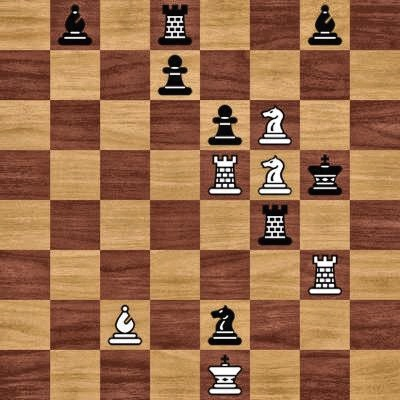black-bishop: (50, 0, 100, 50), (300, 0, 350, 50)
black-king: (300, 150, 350, 200)
black-knight: (200, 300, 250, 350)
black-pawn: (150, 50, 200, 100), (200, 100, 250, 150)
black-rook: (150, 0, 200, 50), (250, 200, 300, 250)
white-bishop: (100, 300, 150, 350)
white-king: (200, 350, 250, 400)
white-knight: (250, 100, 300, 150), (250, 150, 300, 200)
white-rook: (200, 150, 250, 200), (300, 250, 350, 300)
